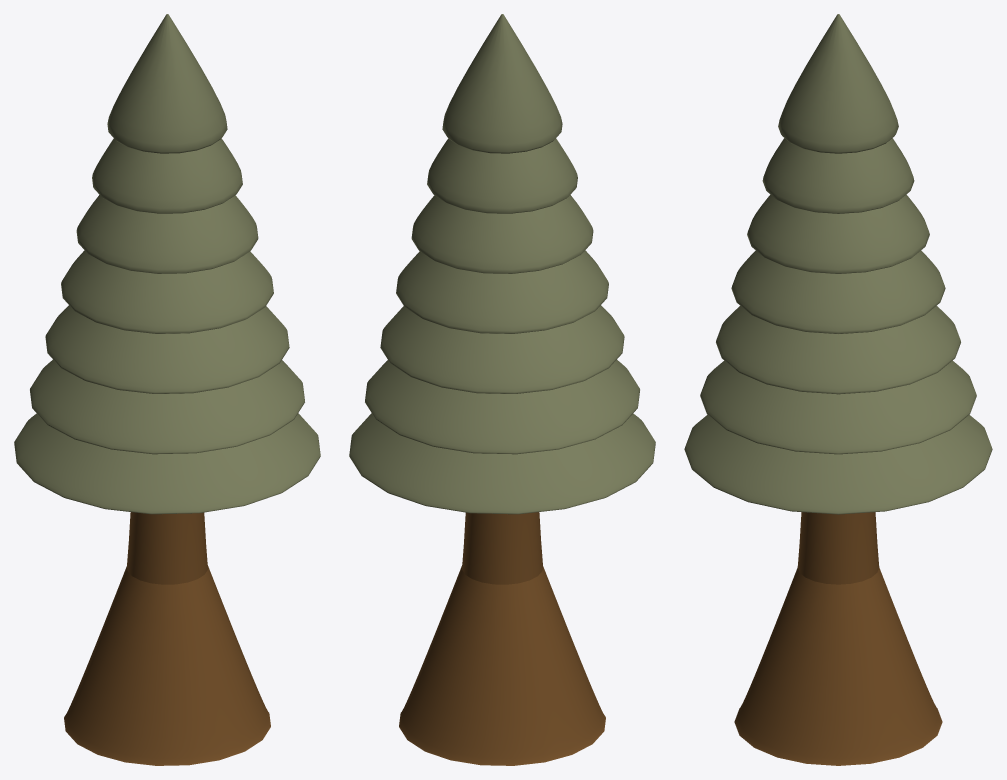
The model's file is Trees.glb.
3 renders of one model, left to right at view 1: azimuth 30°, elevation 25°; view 2: azimuth 150°, elevation 25°; view 3: azimuth 270°, elevation 25°, orthographic.
Visible parts, largest first — view 1: Root; view 2: Root; view 3: Root.
Boxes of the visible parts, box(x1,y1,x2,y2) form: Root: box(14, 14, 320, 765); Root: box(349, 14, 655, 765); Root: box(684, 14, 992, 765).
Size of the model in its own units: 1.46 by 3.71 by 1.46.
